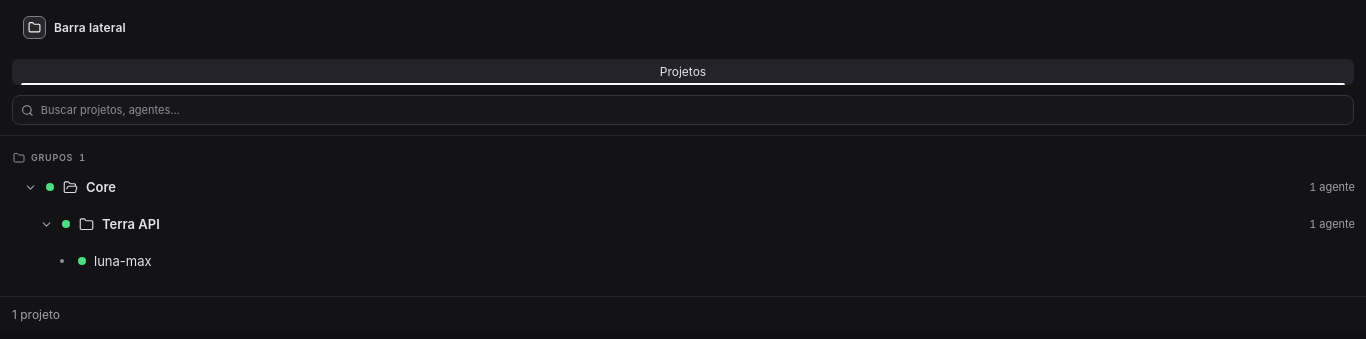
Test: NavigatorPanel › Given a project row, when it is clicked, then the project opens and group expansion stays explicit
Click the list item with aria-label "Projeto Terra API" at (131, 224), box [38,214,1355,234]
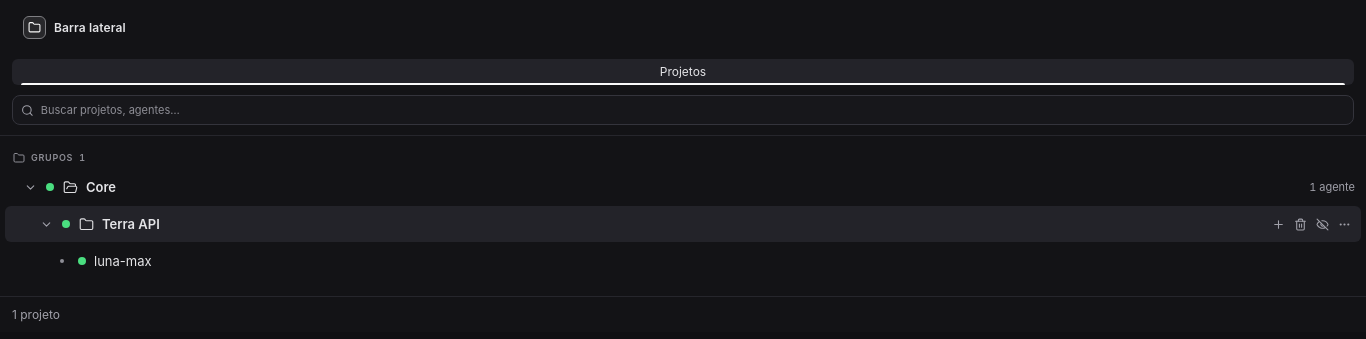
Click the list item with aria-label "Grupo Core" at (101, 187), box [22,177,1355,197]
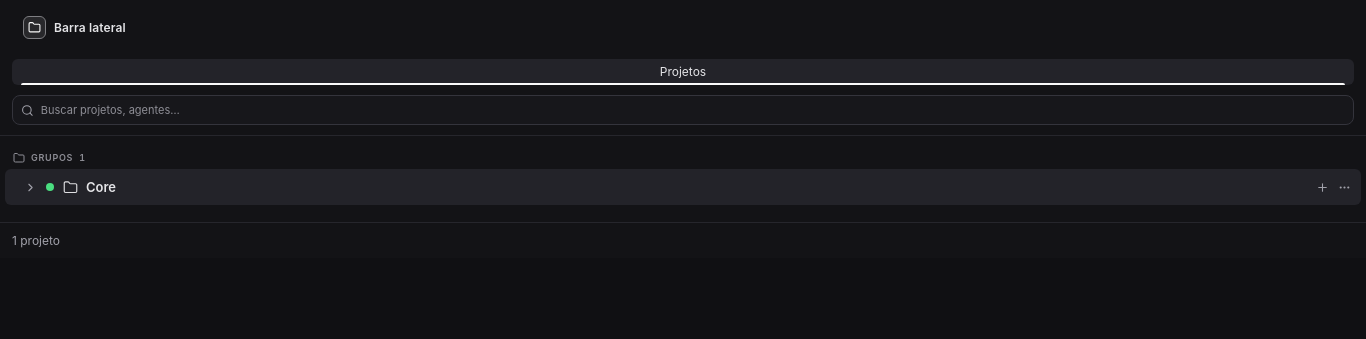
Click the list item with aria-label "Grupo Core" at (683, 187), box [5,169,1361,205]
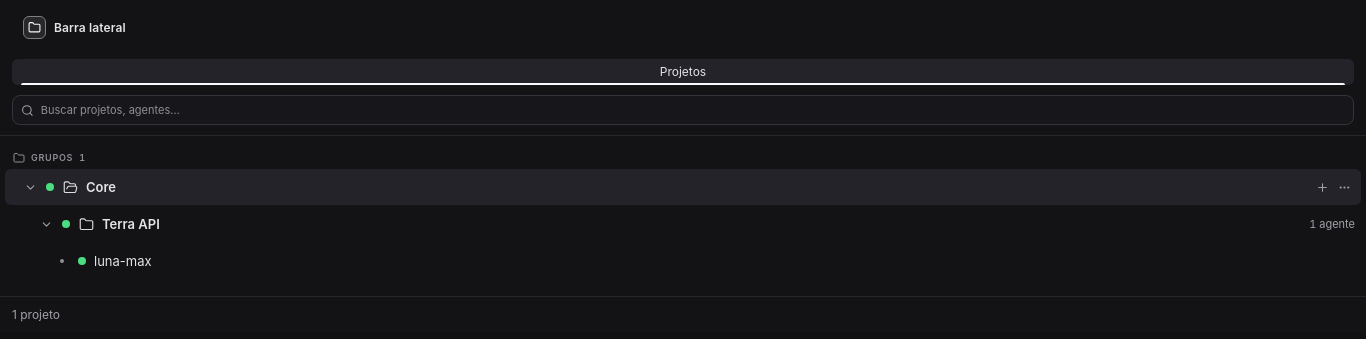
expect the list item with aria-label "Projeto Terra API" is shown: met, box [38,214,1355,234]
